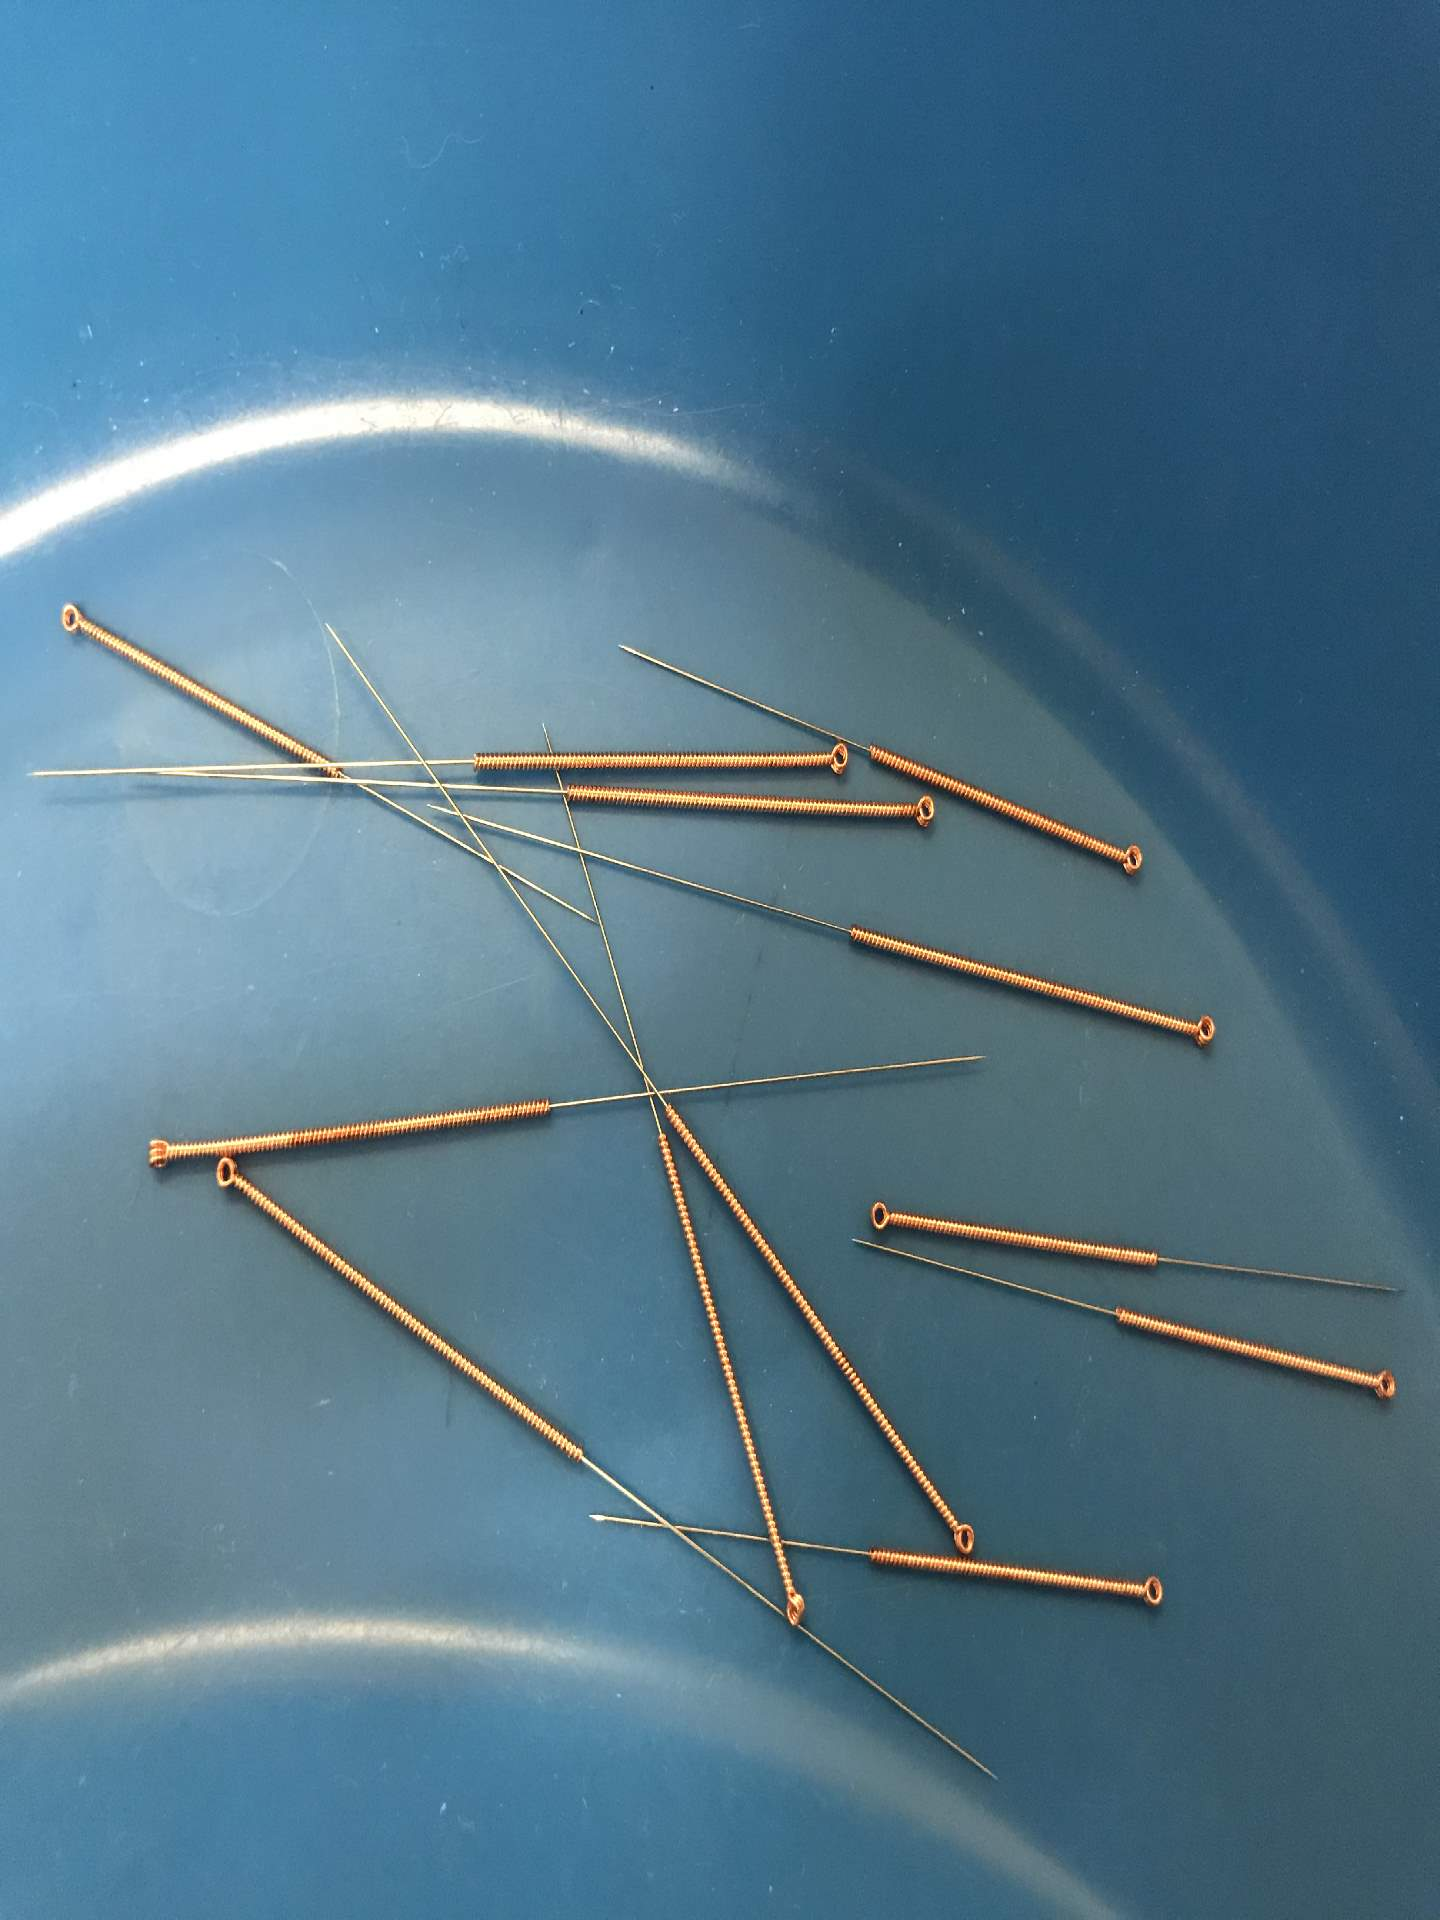needle: (1348, 1352, 1411, 1418), (127, 1123, 192, 1185), (765, 1571, 820, 1642), (1122, 1559, 1178, 1624), (1171, 999, 1228, 1060), (849, 1188, 909, 1244), (45, 593, 103, 650), (889, 786, 948, 839), (936, 1503, 988, 1562), (204, 1154, 262, 1203), (1106, 825, 1153, 886), (808, 735, 861, 786)
